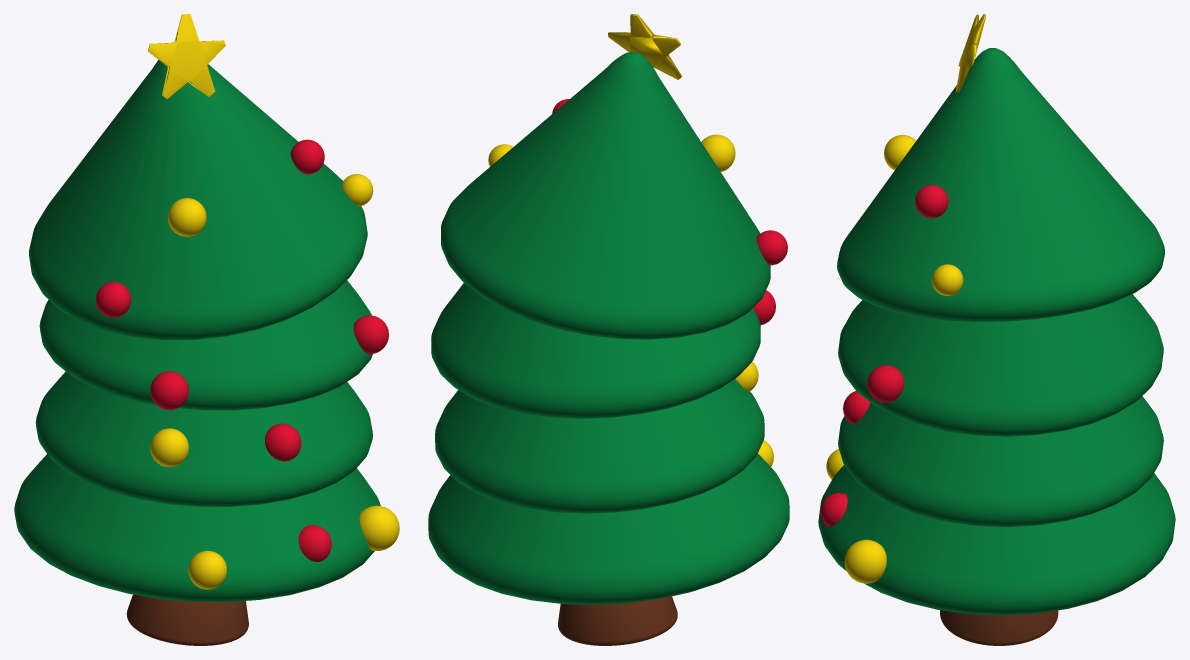
Rendered from christmas_tree_01.glb.
3 renders of one model, left to right at view 1: azimuth 30°, elevation 25°; view 2: azimuth 150°, elevation 25°; view 3: azimuth 270°, elevation 25°, orthographic. The views are drawn at different scales.
Parts seen in each view (by area): view 1: Cylinder.002, Cylinder.004, Cylinder.009, Cylinder.003, Cylinder.005, Cylinder.011, Sphere.002, Sphere.003, Sphere.027, Sphere.007, Sphere.004, Sphere.026 (+5 smaller); view 2: Cylinder.002, Cylinder.004, Cylinder.009, Cylinder.003, Cylinder.005, Cylinder.011, Sphere.007, Sphere; view 3: Cylinder.002, Cylinder.003, Cylinder.004, Cylinder.009, Cylinder.005, Sphere.002, Sphere.008, Sphere.006, Cylinder.011, Sphere.001, Sphere.007, Sphere.005 (+1 smaller).
Boxes of the visible parts, <box> form: Cylinder.002: <box>29,60,367,340</box>; Cylinder.004: <box>14,454,380,602</box>; Cylinder.009: <box>35,371,372,506</box>; Cylinder.003: <box>39,280,372,410</box>; Cylinder.005: <box>126,594,248,645</box>; Cylinder.011: <box>148,14,225,98</box>; Sphere.002: <box>359,505,399,550</box>; Sphere.003: <box>188,550,226,589</box>; Sphere.027: <box>150,428,188,466</box>; Sphere.007: <box>168,198,206,236</box>; Sphere.004: <box>150,371,188,409</box>; Sphere.026: <box>265,423,301,461</box>; Cylinder.002: <box>441,52,770,339</box>; Cylinder.004: <box>428,453,789,604</box>; Cylinder.009: <box>435,379,764,513</box>; Cylinder.003: <box>431,283,760,418</box>; Cylinder.005: <box>558,596,677,645</box>; Cylinder.011: <box>608,14,681,79</box>; Sphere.007: <box>701,134,735,171</box>; Sphere: <box>756,230,787,265</box>; Cylinder.002: <box>837,48,1164,321</box>; Cylinder.003: <box>838,294,1163,436</box>; Cylinder.004: <box>818,465,1175,615</box>; Cylinder.009: <box>838,396,1163,527</box>; Cylinder.005: <box>940,610,1058,645</box>; Sphere.002: <box>844,539,886,583</box>; Sphere.008: <box>867,365,904,402</box>; Sphere.006: <box>915,185,948,218</box>; Cylinder.011: <box>956,14,985,92</box>; Sphere.001: <box>931,264,963,295</box>; Sphere.007: <box>884,135,915,170</box>; Sphere.005: <box>820,493,847,526</box>.
Size of the model in its own units: 0.8464 by 1.58 by 0.8476.
